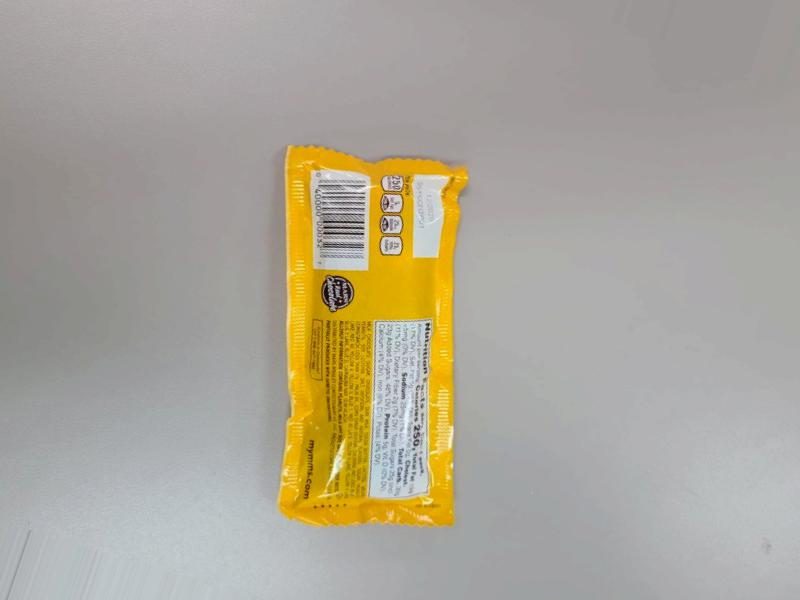m&m: (266, 108, 487, 528)
